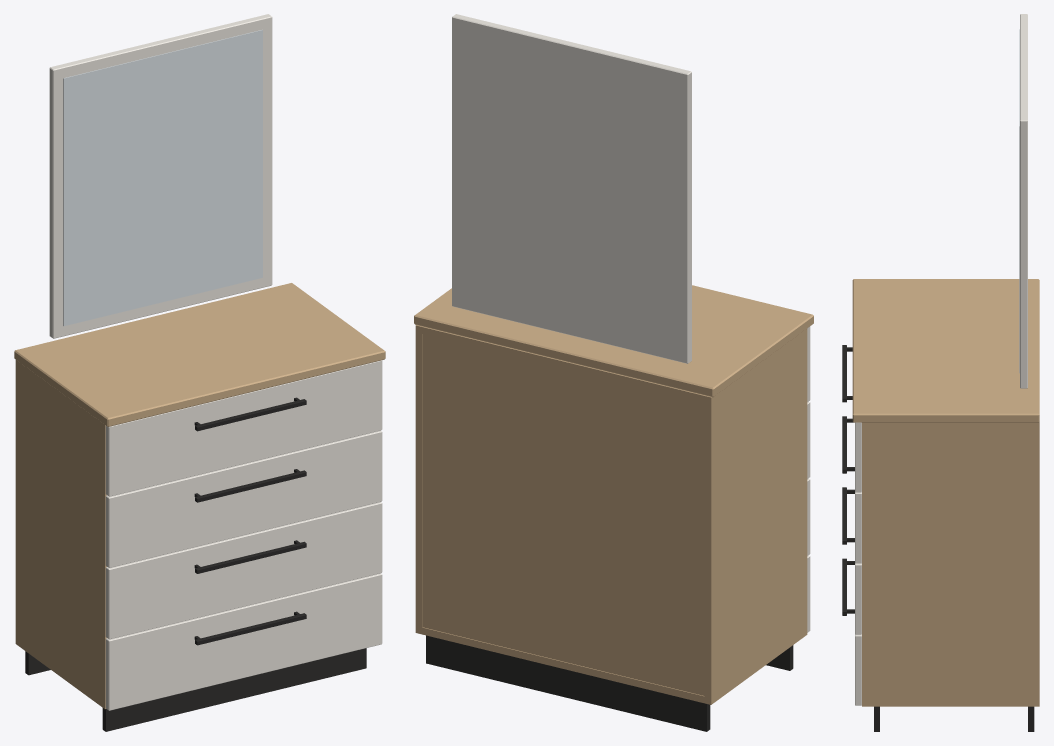
Rendered from 38_komoda_lustro_80.glb.
3 views of the same model, side by side, from view 1: azimuth 30°, elevation 25°; view 2: azimuth 150°, elevation 25°; view 3: azimuth 270°, elevation 25° (orthographic). The views are drawn at different scales.
Visible parts, largest first — view 1: Lustro, Wierzch, Korpus, Front_szuflada_2, Front_szuflada_4, Front_szuflada_3, Front_szuflada_1, Lustro_rama, Cokol, Uchwyty; view 2: Korpus, Lustro_rama, Wierzch, Cokol; view 3: Korpus, Wierzch, Lustro_rama, Uchwyty, Front_szuflada_2, Front_szuflada_3, Front_szuflada_4, Front_szuflada_1, Lustro.
Part boxes in pixels (bbox=[...]): Lustro: bbox=[63, 29, 262, 326]; Wierzch: bbox=[14, 283, 385, 426]; Korpus: bbox=[15, 360, 106, 708]; Front_szuflada_2: bbox=[105, 430, 382, 567]; Front_szuflada_4: bbox=[105, 573, 382, 710]; Front_szuflada_3: bbox=[105, 502, 382, 639]; Front_szuflada_1: bbox=[105, 360, 382, 496]; Lustro_rama: bbox=[49, 14, 272, 338]; Cokol: bbox=[25, 648, 366, 731]; Uchwyty: bbox=[194, 397, 306, 645]; Korpus: bbox=[415, 325, 807, 704]; Lustro_rama: bbox=[452, 14, 691, 363]; Wierzch: bbox=[414, 285, 813, 397]; Cokol: bbox=[426, 635, 793, 731]; Korpus: bbox=[862, 422, 1039, 706]; Wierzch: bbox=[852, 279, 1039, 422]; Lustro_rama: bbox=[1020, 14, 1027, 388]; Uchwyty: bbox=[842, 345, 854, 615]; Front_szuflada_2: bbox=[855, 492, 861, 563]; Front_szuflada_3: bbox=[855, 563, 861, 634]; Front_szuflada_4: bbox=[855, 634, 861, 705]; Front_szuflada_1: bbox=[855, 422, 861, 492]; Lustro: bbox=[1019, 29, 1019, 373].
Bounding box in the file's own units: 0.812 × 1.68 × 0.5.
